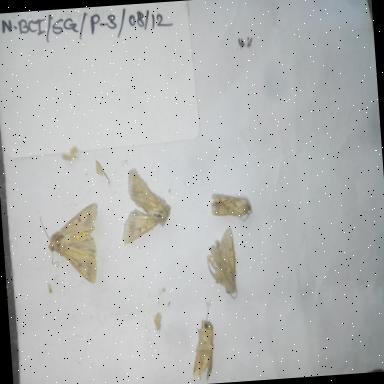abw: (35, 196, 107, 293), (113, 162, 176, 249), (202, 224, 244, 306), (185, 299, 222, 384), (206, 185, 258, 227)
